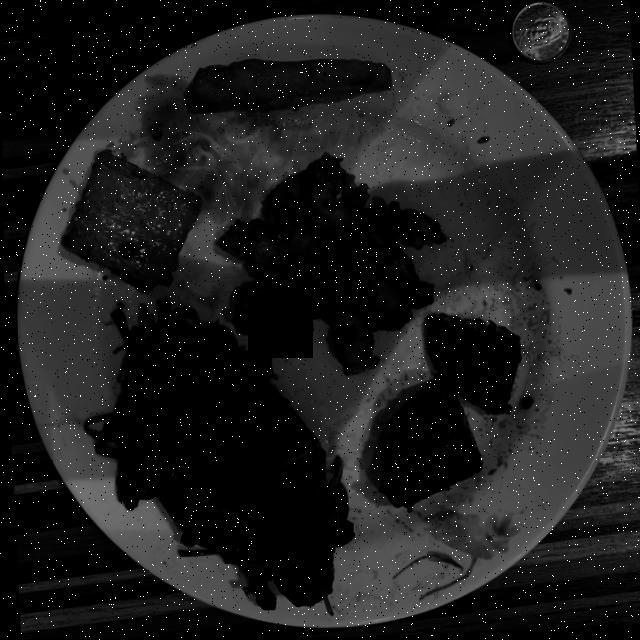coin: (510, 1, 571, 62)
creamy tofu: (61, 149, 200, 293)
red grilled pork: (218, 152, 444, 374)
sweet potato leaves: (83, 298, 351, 609)
